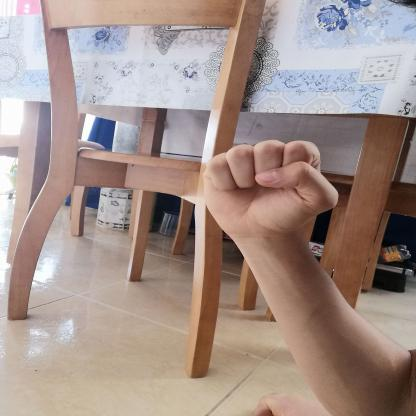SAD: (186, 126, 358, 259)
